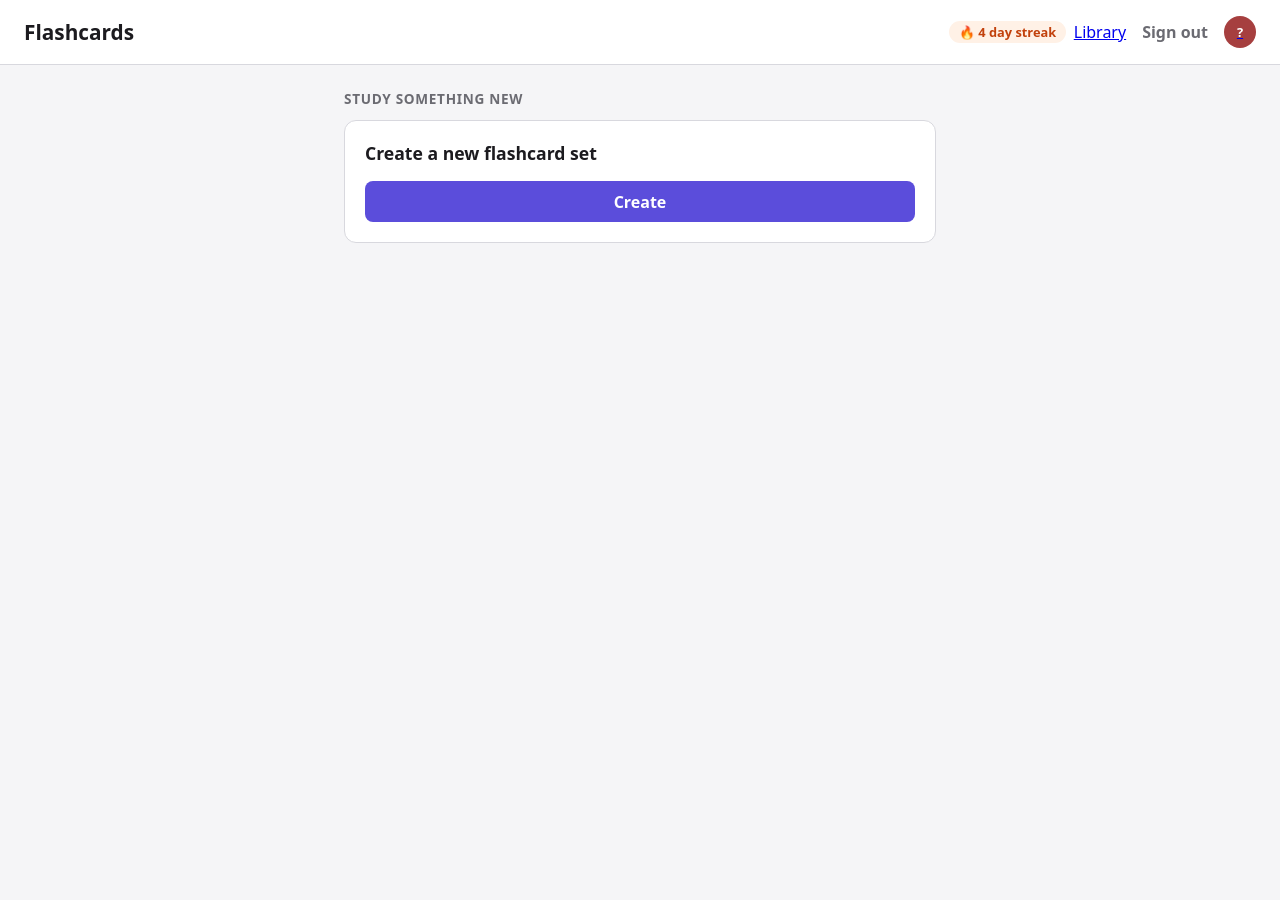
Test: HomePage › opens the streak-details popup on tap when streak_details is enabled (#353)
Click the button with aria-label "4-day streak": [1008, 32] box [950,21,1066,43]
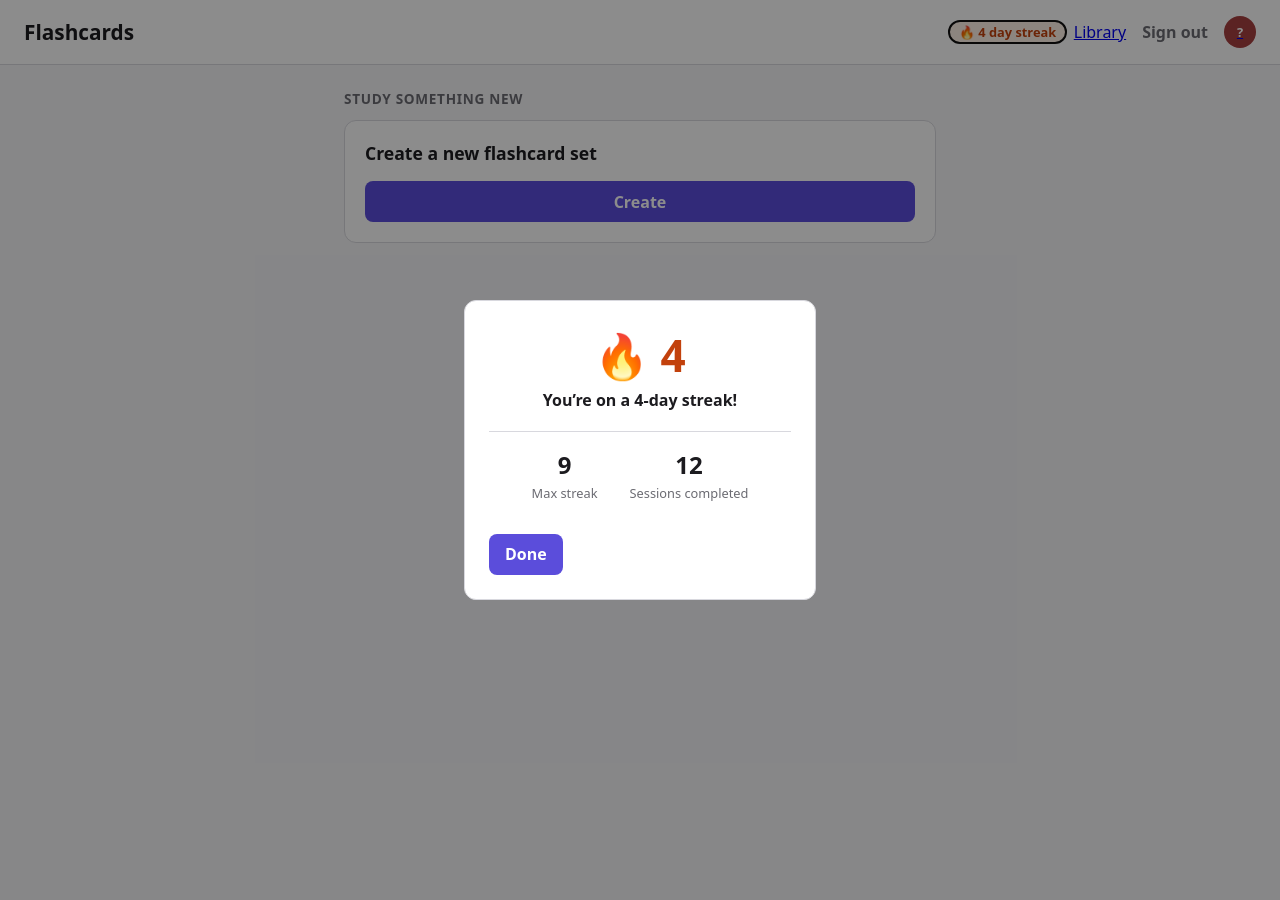
expect the text "You’re on a 4-day streak!" is shown: met, box [543,389,737,411]
expect the text "9" is shown: met, box [558,448,571,481]
expect the text "Max streak" is shown: met, box [532,484,598,502]
